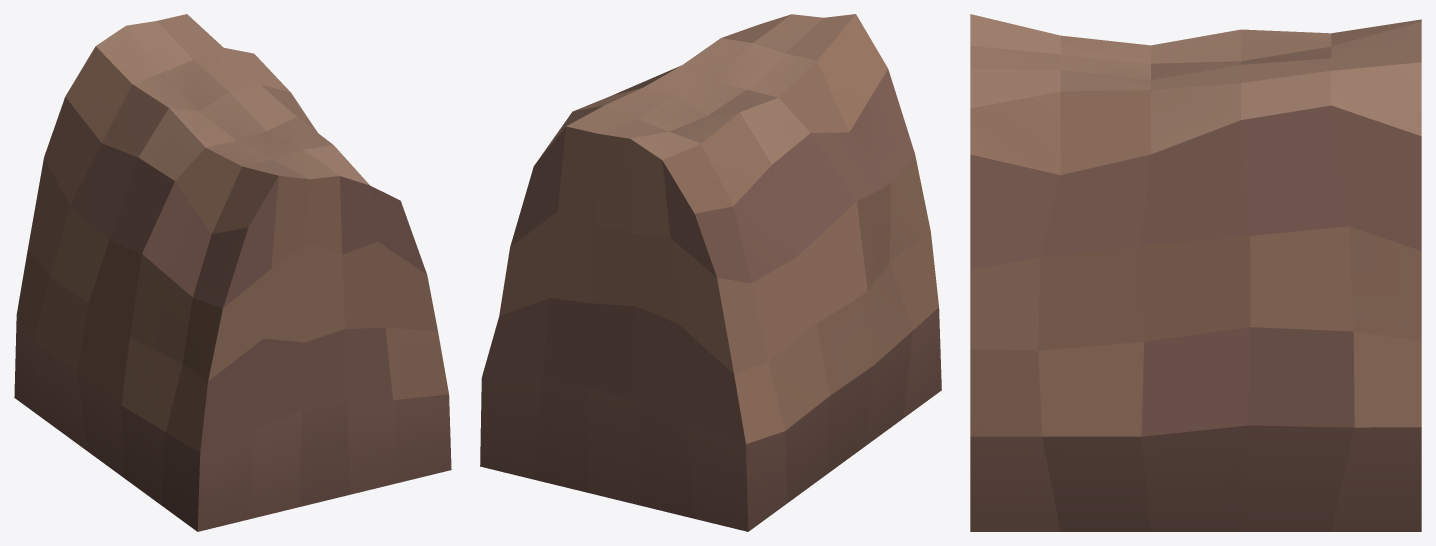
File: roca_recta_3.glb
The picture shows the model from 3 angles, left to right: view 1: azimuth 30°, elevation 25°; view 2: azimuth 150°, elevation 25°; view 3: azimuth 270°, elevation 25°; orthographic projection. The views are drawn at different scales.
Parts seen in each view (by area): view 1: propforge-cuartos-roca_recta; view 2: propforge-cuartos-roca_recta; view 3: propforge-cuartos-roca_recta.
Boxes of the visible parts, left/top/right/bottom form: propforge-cuartos-roca_recta: left=14, top=14, right=451, bottom=531; propforge-cuartos-roca_recta: left=480, top=14, right=941, bottom=531; propforge-cuartos-roca_recta: left=970, top=14, right=1421, bottom=531.
Size of the model in its own units: 0.861 by 1.04 by 1.
